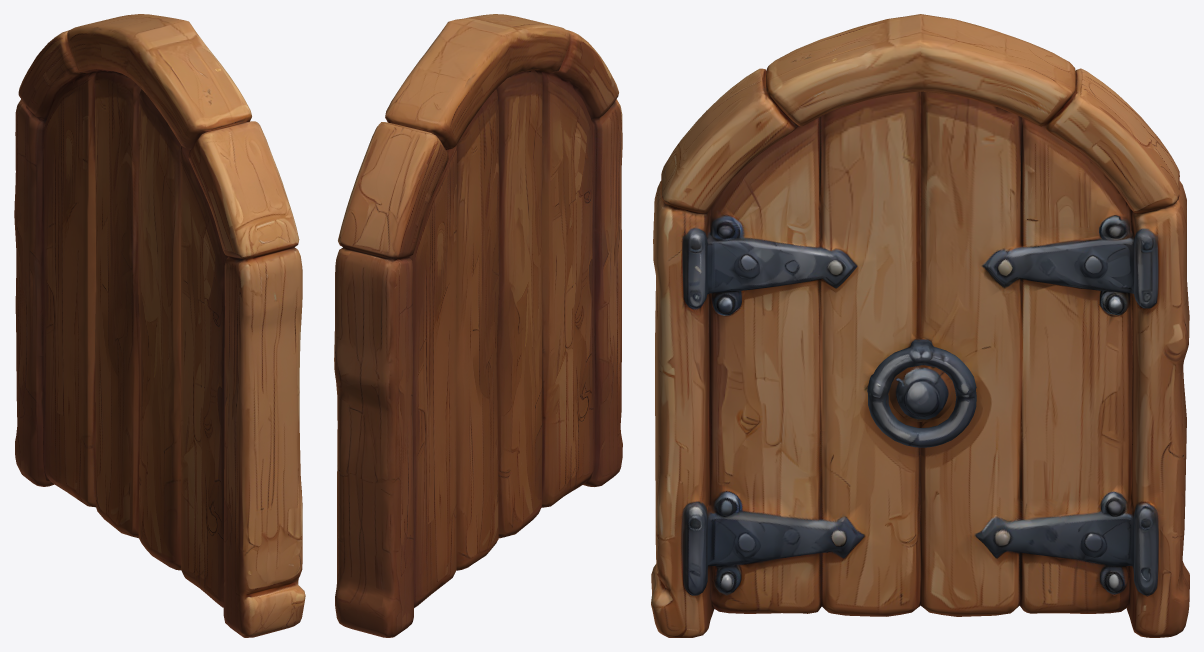
The model's file is door.glb.
The picture shows the model from 3 angles, left to right: view 1: azimuth 30°, elevation 25°; view 2: azimuth 150°, elevation 25°; view 3: azimuth 270°, elevation 25°; orthographic projection. The views are drawn at different scales.
Parts seen in each view (by area): view 1: tripo_node_c07a430b-f564-4b92-b8db-72814a2aed86; view 2: tripo_node_c07a430b-f564-4b92-b8db-72814a2aed86; view 3: tripo_node_c07a430b-f564-4b92-b8db-72814a2aed86.
Boxes of the visible parts, x1,y1,x2,y2 form: tripo_node_c07a430b-f564-4b92-b8db-72814a2aed86: [14, 14, 305, 637]; tripo_node_c07a430b-f564-4b92-b8db-72814a2aed86: [334, 14, 622, 637]; tripo_node_c07a430b-f564-4b92-b8db-72814a2aed86: [651, 14, 1189, 637].
Size of the model in its own units: 0.1458 by 1 by 0.8139.
Materials: 1 (1 with a texture image).
